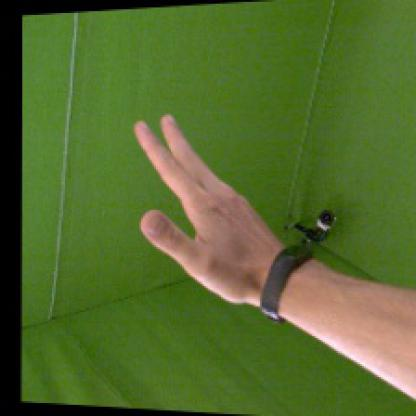Hand: (133, 115, 287, 305)
